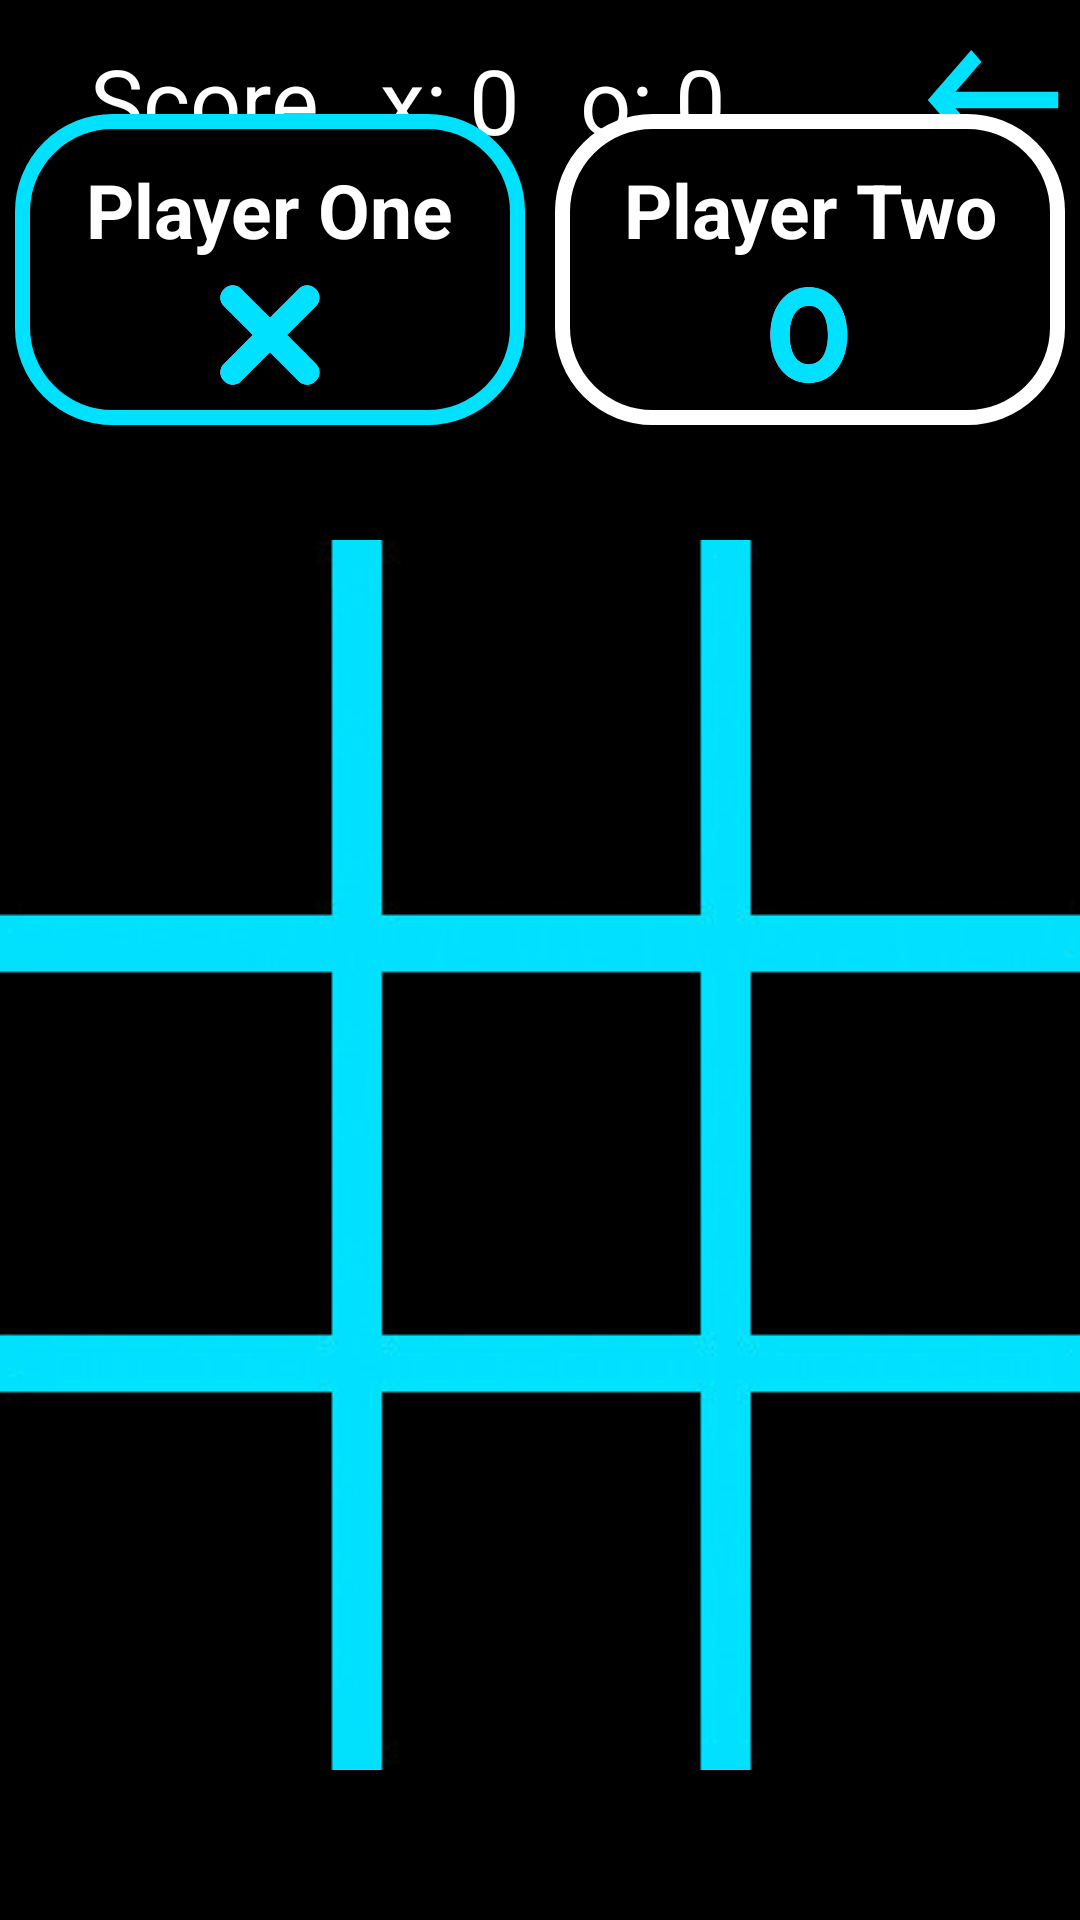

Icons on this 1080 × 1920 Android screen, each with its box as (x1, y1, x2, y2):
oimage: (770, 287, 848, 383)
ximage: (220, 285, 320, 385)
